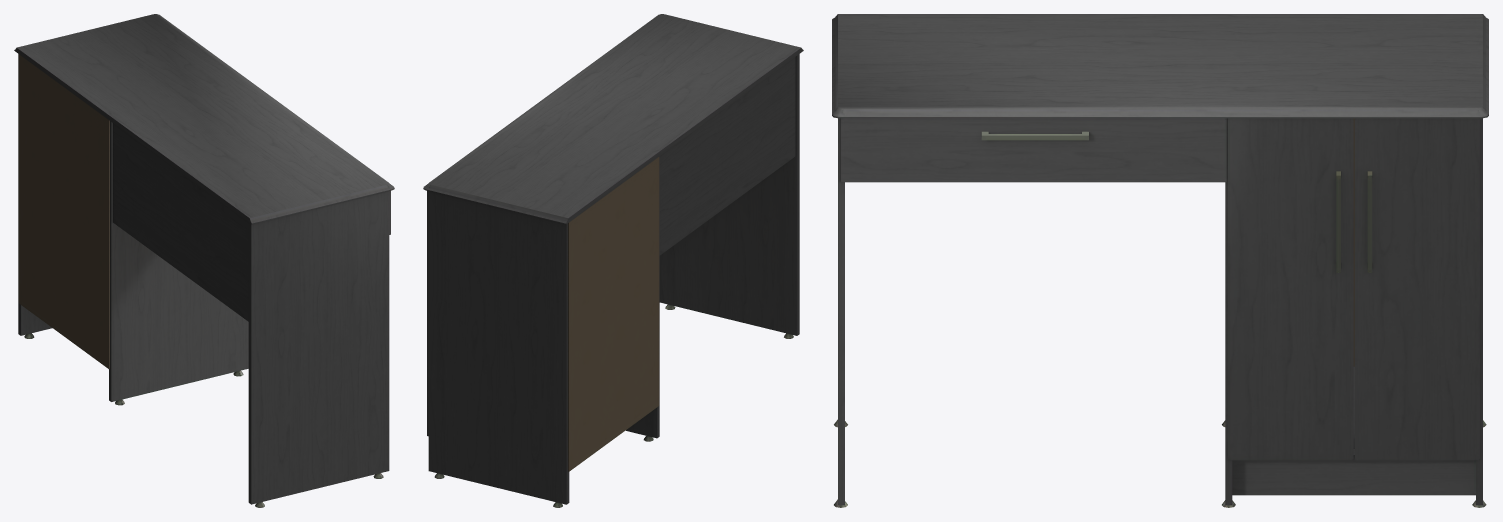
Rendered from objl.glb.
The picture shows the model from 3 angles, left to right: view 1: azimuth 30°, elevation 25°; view 2: azimuth 150°, elevation 25°; view 3: azimuth 270°, elevation 25°; orthographic projection. The views are drawn at different scales.
Parts seen in each view (by area): view 1: computer desk; view 2: computer desk; view 3: computer desk.
Boxes of the visible parts, x1,y1,x2,y2 form: computer desk: (14, 14, 394, 507); computer desk: (423, 14, 803, 507); computer desk: (832, 14, 1488, 507).
Size of the model in its own units: 0.4421 by 0.8275 by 1.22.
1 material, 1 textured.
